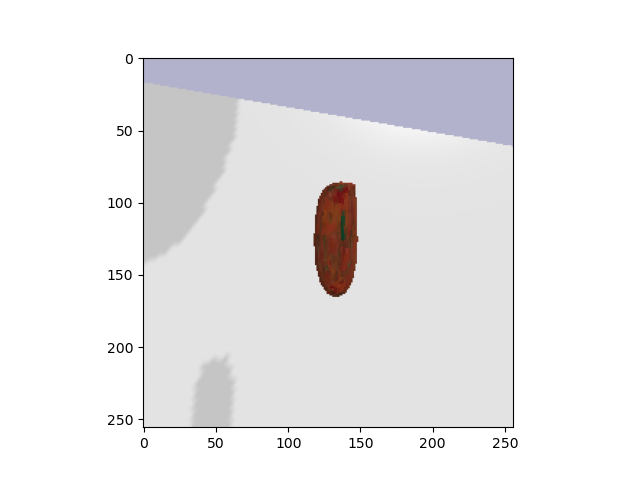v249b387_106: (305, 179, 375, 302)
